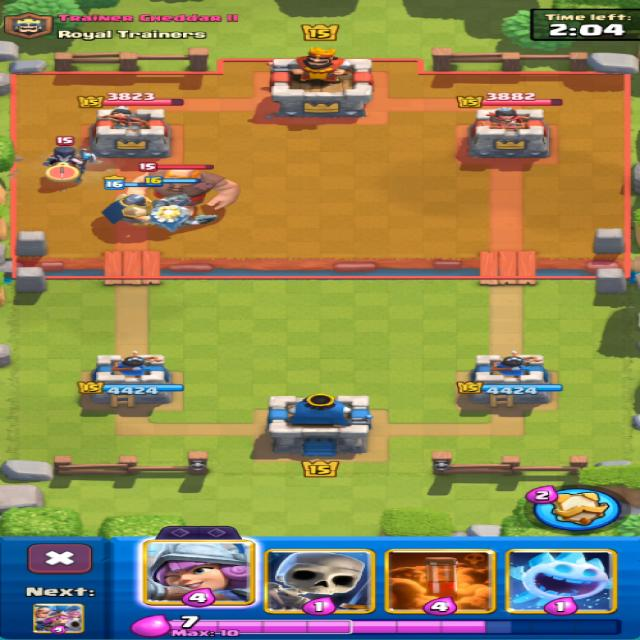Enemy-Giant: (134, 169, 238, 209), (127, 186, 146, 195)
Enemy-KingTower: (269, 47, 371, 116)
Enemy-NightWitch: (45, 146, 96, 181)
Enemy-PrincessTower: (90, 106, 170, 161), (468, 107, 548, 158)
